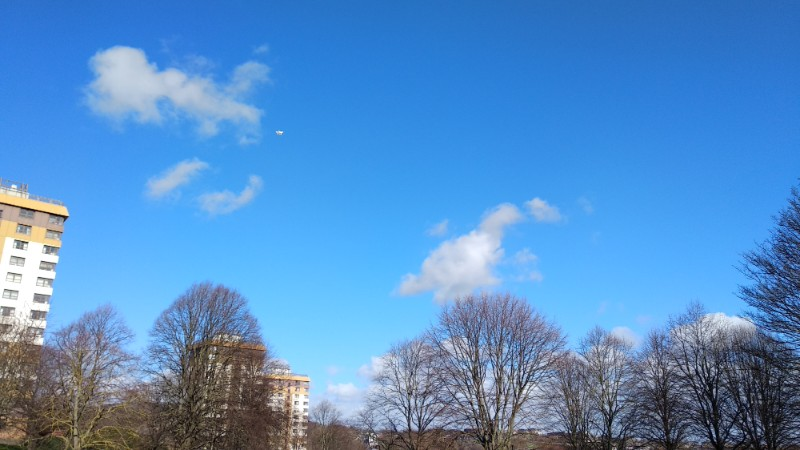drone: (275, 128, 282, 138)
